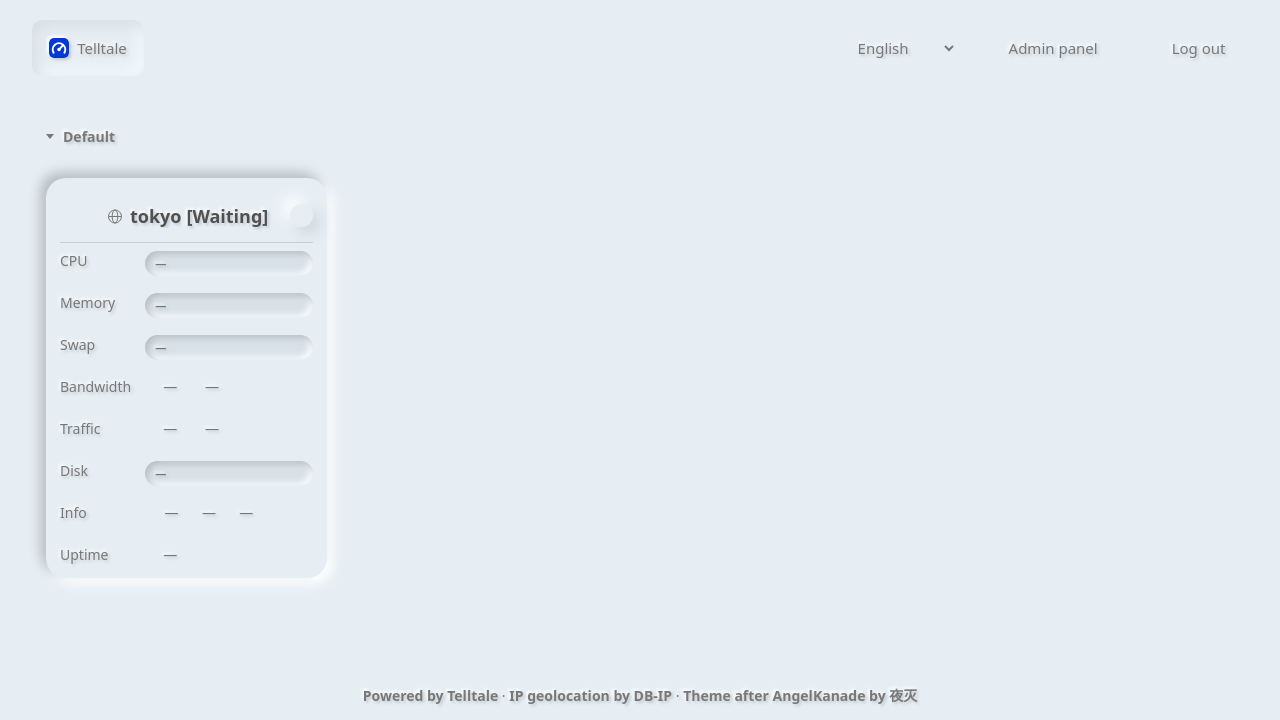
Test: admin panel › opens from the Status page and goes back
The width and height of the screenshot is (1280, 720).
Click the button "Admin panel".
click(1043, 48)  # box [965,29,1120,67]
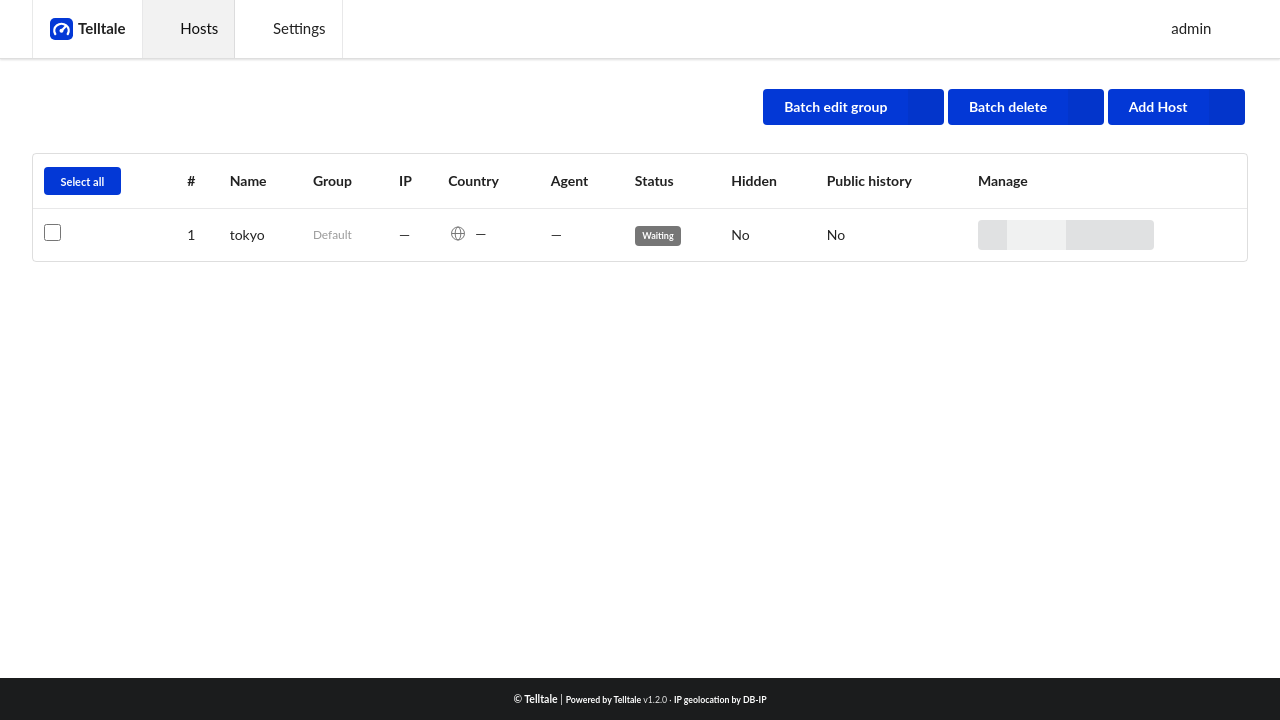
Result: the link "Hosts" is shown at [143,0,235,58]
Result: the row named "Select tokyo" is shown at [33,209,1247,261]
Click the link "Settings".
click(289, 29)  # box [235,0,343,58]
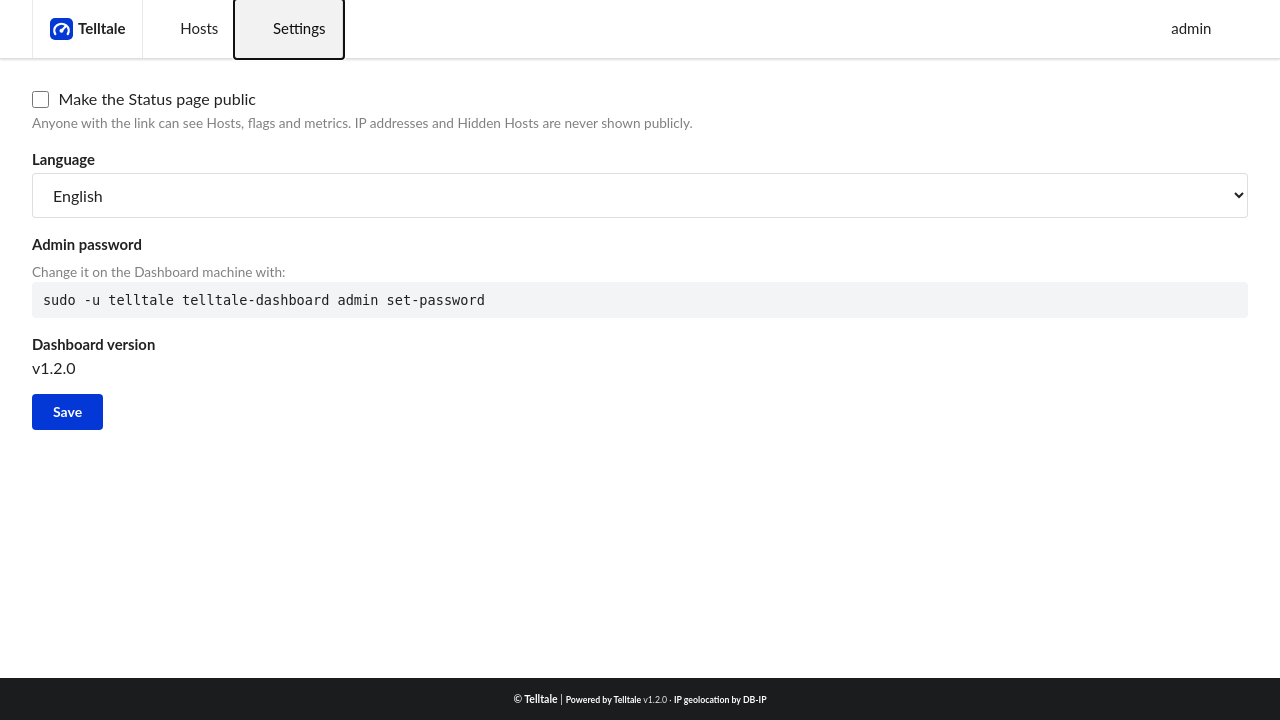
Result: the checkbox labelled "Make the Status page public" is shown at [32,90,49,108]
